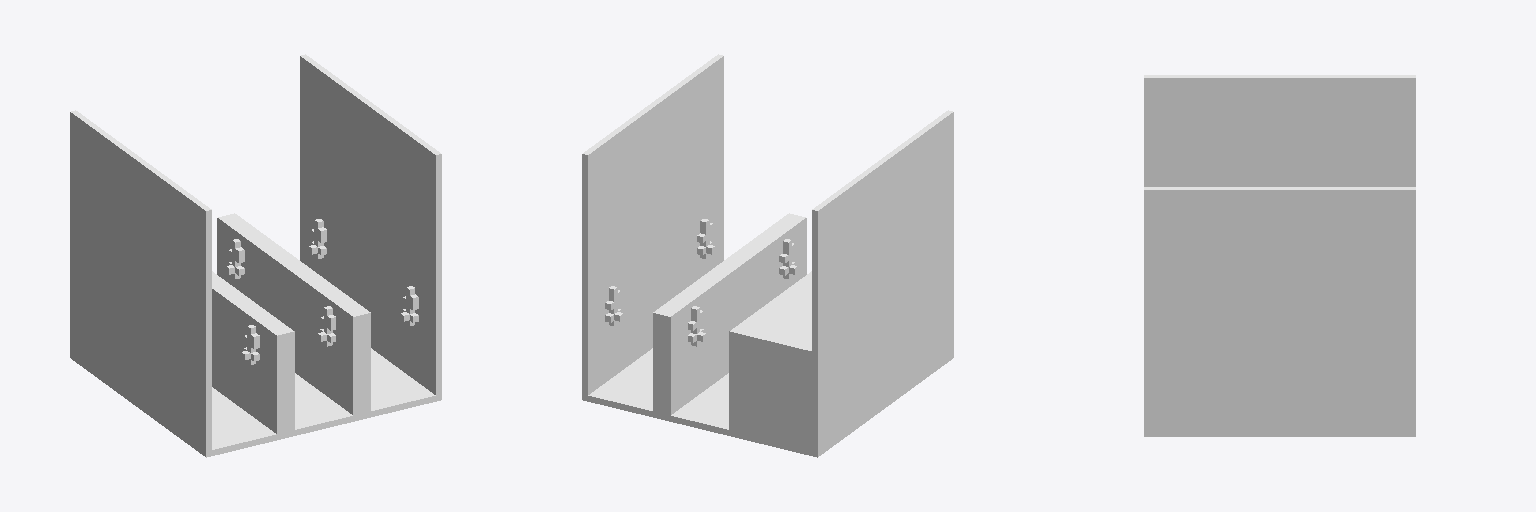
The model's file is corredor2.obj.
3 renders of one model, left to right at view 1: azimuth 30°, elevation 25°; view 2: azimuth 150°, elevation 25°; view 3: azimuth 270°, elevation 25°, orthographic.
Visible parts, largest first — view 1: corredor2; view 2: corredor2; view 3: corredor2.
Part boxes in pixels (x1,y1,x2,y2): corredor2: (70, 54, 441, 457); corredor2: (582, 54, 953, 457); corredor2: (1144, 75, 1415, 436).
Size of the model in its own units: 40 by 40 by 40.